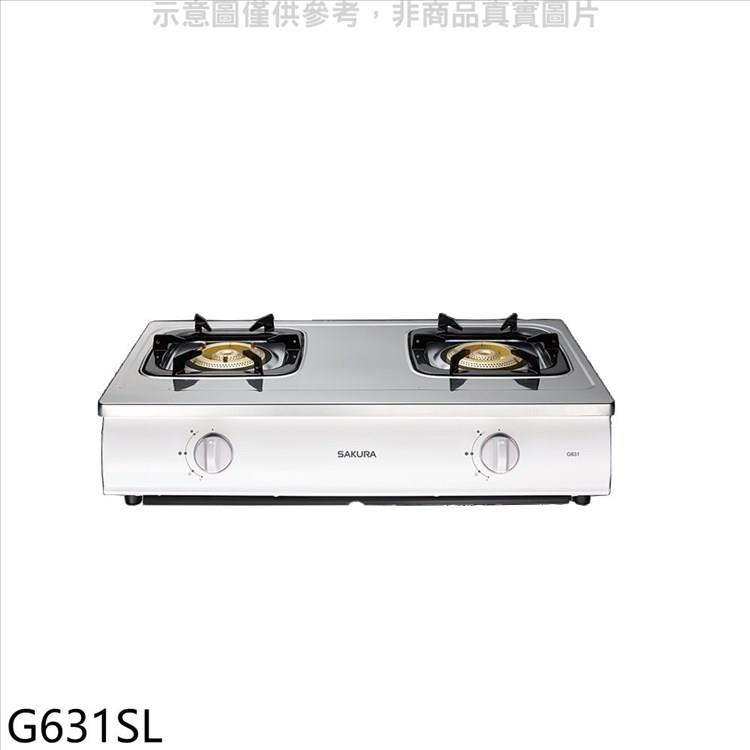gasoven: (86, 304, 630, 517)
